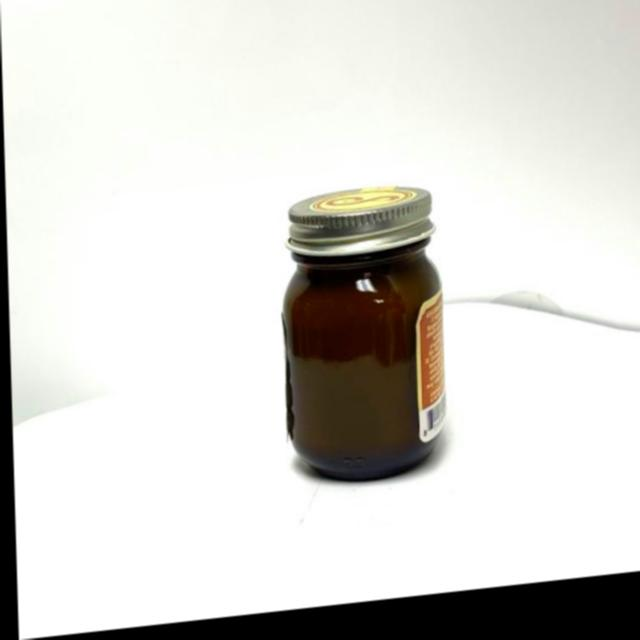SUGARLANDS PEANUT BUTTER SIPPING CREAM 50ML: (256, 183, 458, 500)
